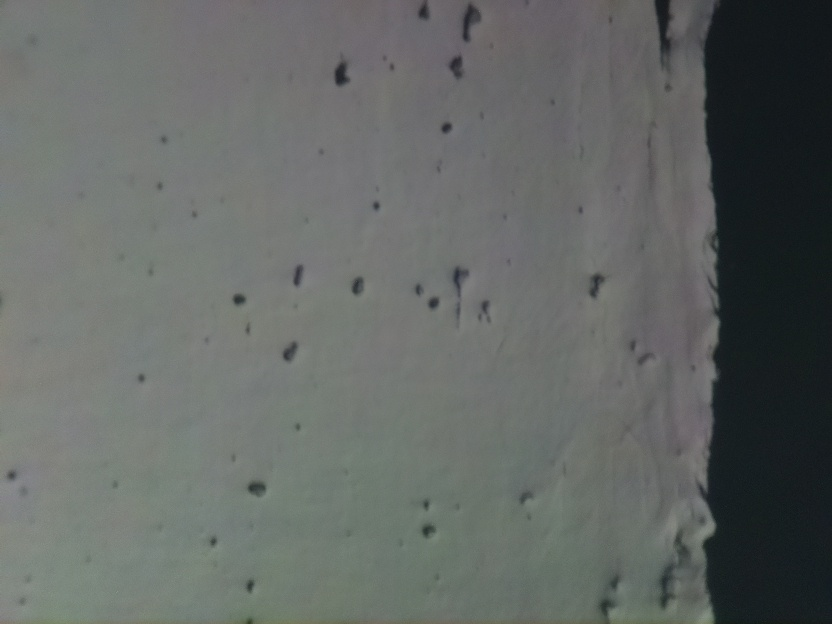crack: (702, 0, 832, 624), (657, 0, 671, 78)
